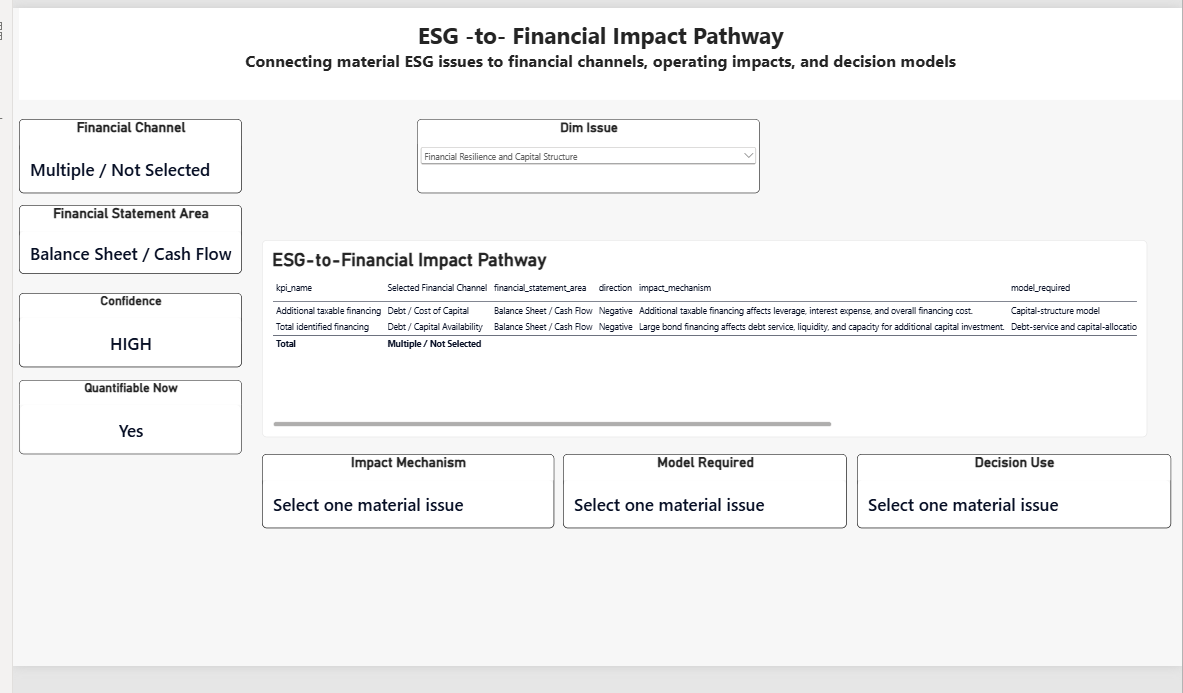

This screenshot's page, from the dashboard's own definition file:
{"tool":"powerbi","page":{"name":"ESG → Financial Impact","canvas":[1920,1080],"ordinal":2},"visuals":[{"type":"textbox","box":[9.6,0,1910.4,151.1],"z":0},{"type":"cardVisual","title":"Financial Channel","fields":{"Data":["Data_Quality.Selected Financial Channel"]},"box":[9.9,182.3,366.3,121.5],"z":1000},{"type":"cardVisual","title":"Financial Statement Area","fields":{"Data":["Data_Quality.Selected Financial Statement Area"]},"box":[9.9,323.6,366.3,113.3],"z":2000},{"type":"cardVisual","title":"Confidence","fields":{"Data":["Data_Quality.Selected Bridge Confidence"]},"box":[9.9,468.1,366.3,121.5],"z":3000},{"type":"cardVisual","title":"Quantifiable Now","fields":{"Data":["Data_Quality.Selected Quantifiable Status"]},"box":[9.9,611,366.3,121.5],"z":4000},{"type":"tableEx","title":"ESG-to-Financial Impact Pathway","fields":{"Values":["ESG_Financial_Bridge.kpi_name","Data_Quality.Selected Financial Channel","ESG_Financial_Bridge.financial_statement_area","ESG_Financial_Bridge.direction","ESG_Financial_Bridge.impact_mechanism","ESG_Financial_Bridge.model_required","ESG_Financial_Bridge.decision_use","ESG_Financial_Bridge.confidence"]},"box":[409,381,1453.6,323.6],"z":5000},{"type":"slicer","title":"Dim Issue","fields":{"Values":["ESG_Financial_Bridge.issue_name"]},"box":[663.5,182.3,563.4,121.5],"z":6000},{"type":"cardVisual","title":"Impact Mechanism","fields":{"Data":["Data_Quality.Selected Impact Mechanism"]},"box":[409,732.5,479.6,121.5],"z":7000},{"type":"cardVisual","title":"Model Required","fields":{"Data":["Data_Quality.Selected Model Required"]},"box":[903.3,732.5,466.4,121.5],"z":8000},{"type":"cardVisual","title":"Decision Use","fields":{"Data":["Data_Quality.Selected Decision Use"]},"box":[1386.2,732.5,515.7,121.5],"z":9000},{"type":"textbox","box":[427,896.8,1084,113.3],"z":9001}]}

Visuals, with their boxes on the page's 1920x1080 design canvas (x1, y1, x2, y2). These are canvas units, not pixel positions in the 1183x693 screenshot, which may show the page scaled, cropped or inside an application window:
textbox: l=10, t=0, r=1920, b=151
"Financial Channel" cardVisual: l=10, t=182, r=376, b=304
"Financial Statement Area" cardVisual: l=10, t=324, r=376, b=437
"Confidence" cardVisual: l=10, t=468, r=376, b=590
"Quantifiable Now" cardVisual: l=10, t=611, r=376, b=732
"ESG-to-Financial Impact Pathway" tableEx: l=409, t=381, r=1863, b=705
"Dim Issue" slicer: l=664, t=182, r=1227, b=304
"Impact Mechanism" cardVisual: l=409, t=732, r=889, b=854
"Model Required" cardVisual: l=903, t=732, r=1370, b=854
"Decision Use" cardVisual: l=1386, t=732, r=1902, b=854
textbox: l=427, t=897, r=1511, b=1010
